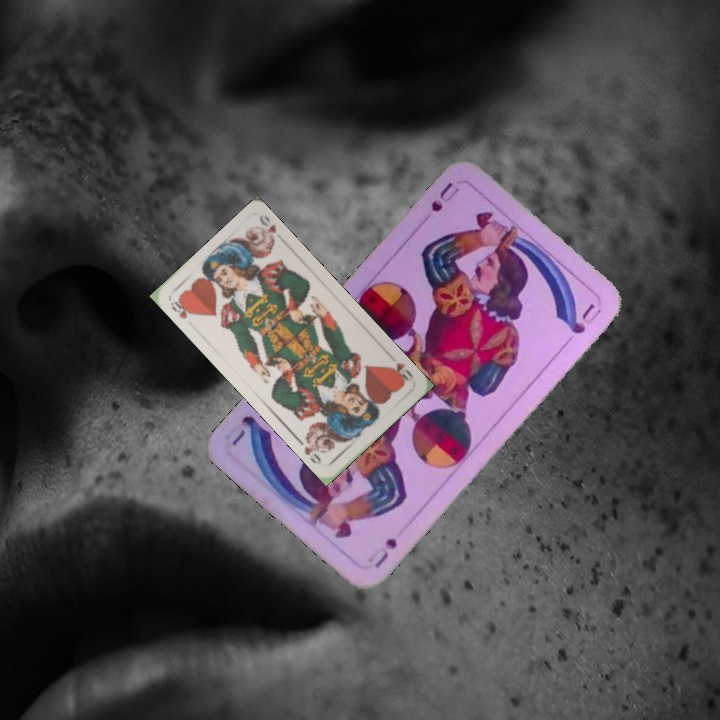HO: (384, 350, 416, 385), (166, 294, 198, 322)
SU: (363, 533, 400, 571), (427, 177, 463, 215)
